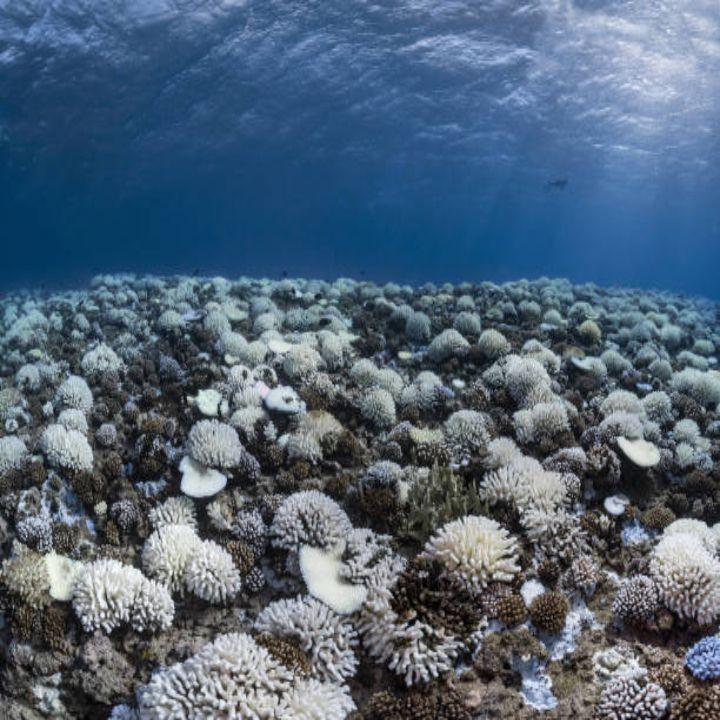Bleached disease: (4, 409, 605, 720), (239, 472, 500, 709)
